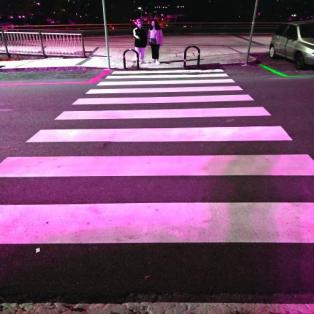Paso de Cebra: (21, 104, 300, 149), (94, 73, 237, 86)
